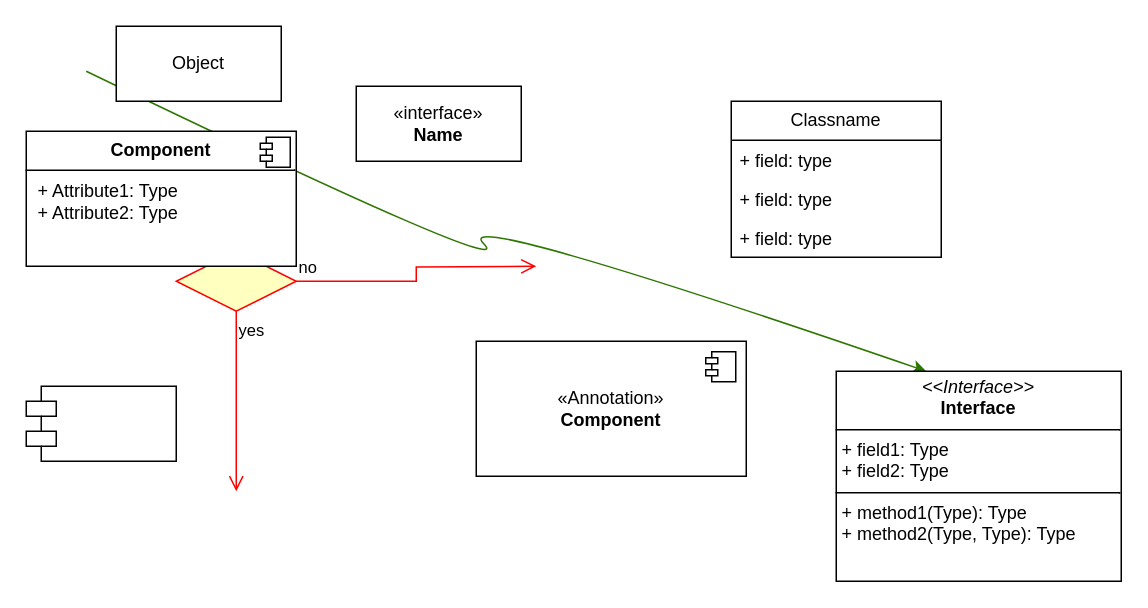
Image size: 1148x608. Some labels were removed from this diagram. The shapes that lost their labels are listed below. From the top down, each one's centre as x and y in pixels, then its label:
At point (235, 280): "Condition".
At point (100, 423): "Module".
